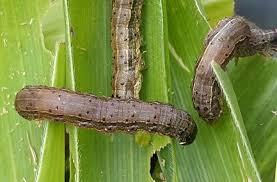fallarmy_worm: (11, 81, 200, 150), (189, 14, 274, 125), (102, 2, 153, 101)
